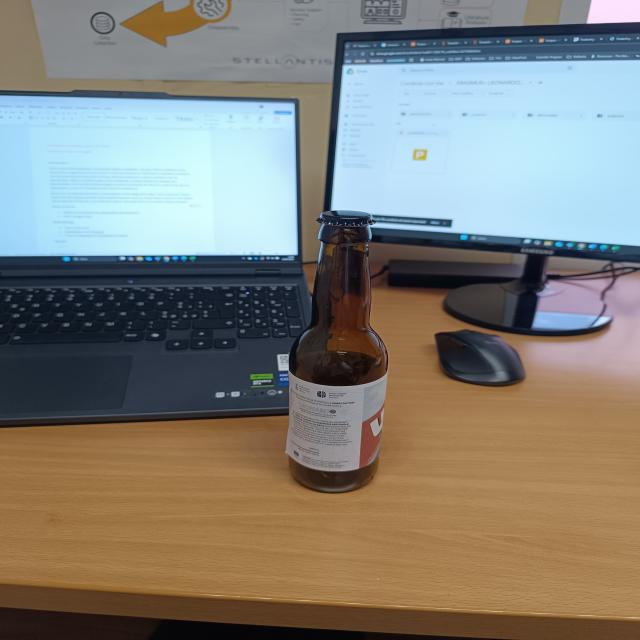Bottle: (289, 210, 389, 492)
Cap: (314, 209, 378, 228)
Label: (290, 371, 388, 472)
